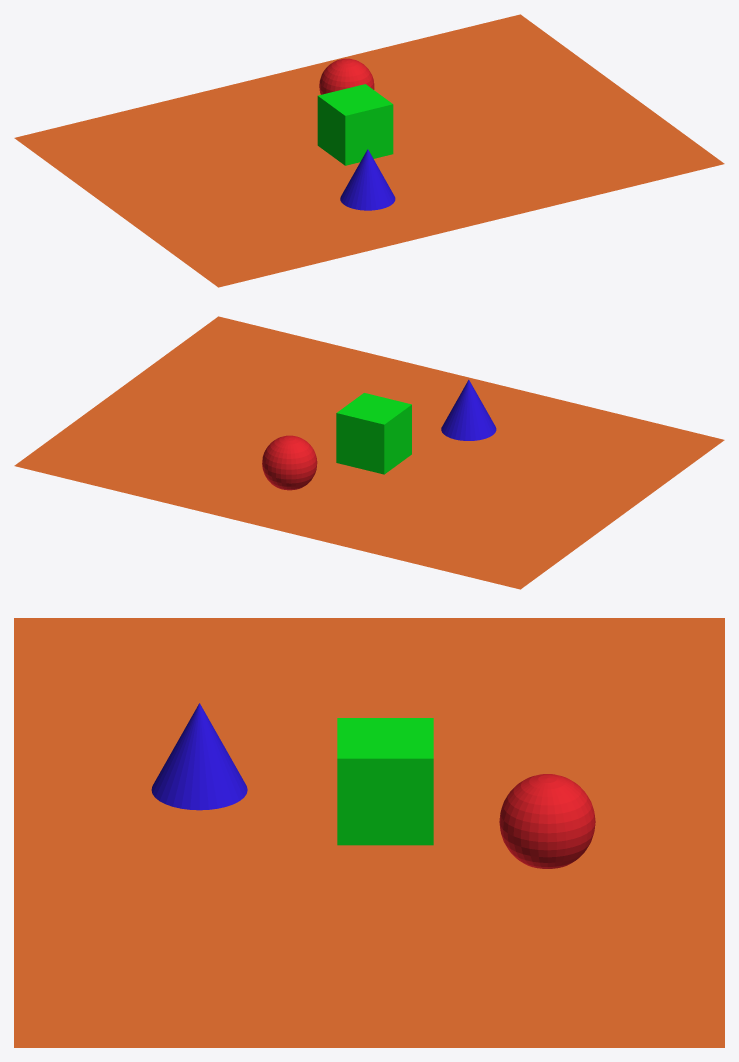
The model's file is testScene.fbx.
The picture shows the model from 3 angles, top to bottom: view 1: azimuth 30°, elevation 25°; view 2: azimuth 150°, elevation 25°; view 3: azimuth 270°, elevation 25°; orthographic projection. The views are drawn at different scales.
Parts seen in each view (by area): view 1: Plane, Cube, Cone, Sphere; view 2: Plane, Cube, Sphere, Cone; view 3: Plane, Cube, Sphere, Cone.
Part boxes in pixels (left/top/right/bottom): Plane: left=14, top=14, right=724, bottom=287; Cube: left=317, top=84, right=393, bottom=165; Cone: left=340, top=149, right=395, bottom=210; Sphere: left=319, top=58, right=374, bottom=94; Plane: left=14, top=316, right=724, bottom=589; Cube: left=336, top=393, right=411, bottom=474; Sphere: left=262, top=435, right=317, bottom=490; Cone: left=441, top=379, right=496, bottom=440; Plane: left=14, top=618, right=724, bottom=1047; Cube: left=337, top=718, right=433, bottom=845; Sphere: left=499, top=774, right=595, bottom=868; Cone: left=151, top=703, right=247, bottom=810.
Bounding box in the file's own units: 2115 × 219 × 1478.
